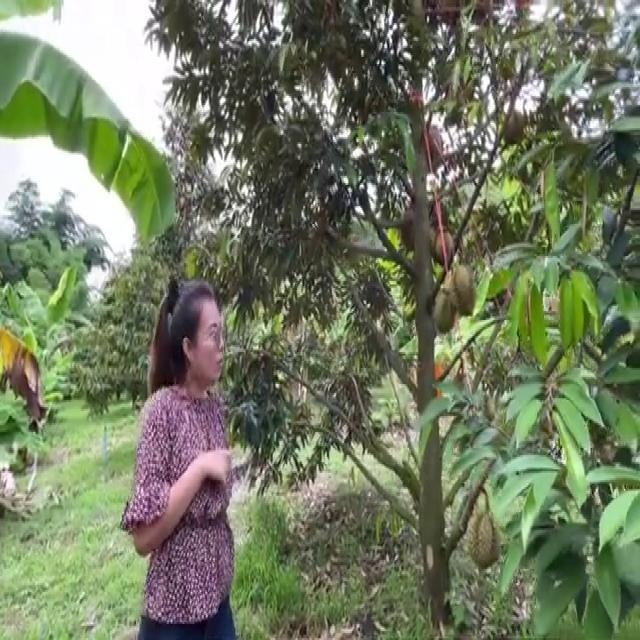durian: (465, 505, 503, 574), (448, 264, 479, 318), (431, 286, 457, 334), (432, 220, 456, 270)
